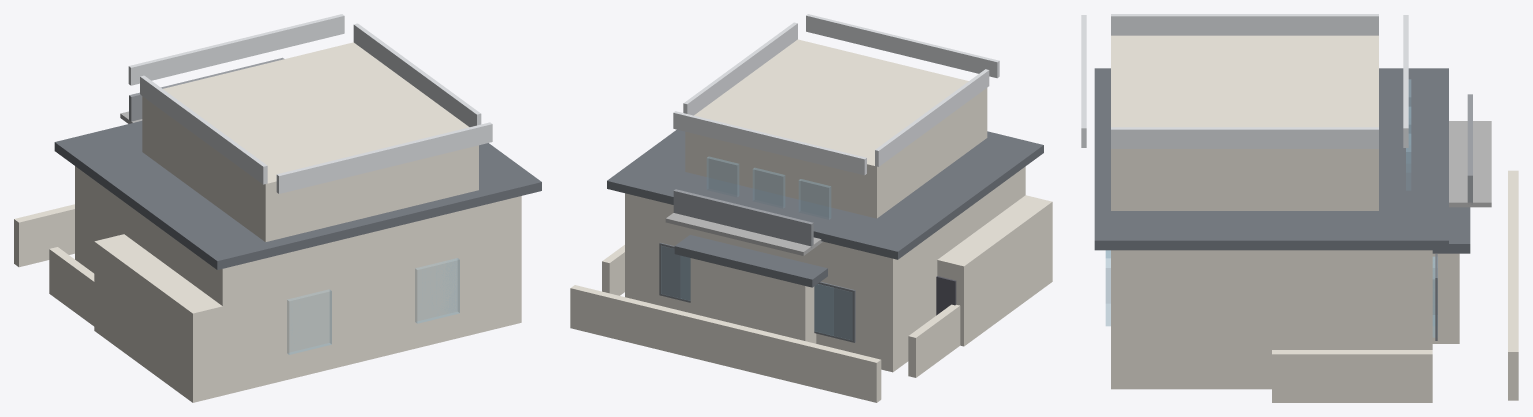
Rendered from residential_house.fbx.
3 renders of one model, left to right at view 1: azimuth 30°, elevation 25°; view 2: azimuth 150°, elevation 25°; view 3: azimuth 270°, elevation 25°, orthographic. The views are drawn at different scales.
Parts seen in each view (by area): view 1: MainBody, SecondFloor, Roof, Garage, RailingZ_-3, RailingZ_3, GardenWall_F, Railing_-2.5, Railing_2.5, Window_S_1.5_-3.05, Window_S_-1.5_-3.05, GardenWall_L (+1 smaller); view 2: SecondFloor, MainBody, Roof, GardenWall_F, Garage, Porch, RailingZ_3, RailingZ_-3, BalconyRail, PorchRoof, GardenWall_L, Railing_-2.5 (+12 smaller); view 3: SecondFloor, MainBody, Roof, GardenWall_R, Railing_-2.5, Railing_2.5, Balcony, GardenWall_F, Porch, PorchRoof, RailingZ_-3, RailingZ_3 (+2 smaller).
Part boxes in pixels (left/top/right/bottom): MainBody: left=75, top=166, right=521, bottom=395; SecondFloor: left=142, top=42, right=478, bottom=272; Roof: left=54, top=121, right=541, bottom=269; Garage: left=94, top=234, right=295, bottom=402; RailingZ_-3: left=276, top=122, right=492, bottom=193; RailingZ_3: left=128, top=14, right=344, bottom=85; GardenWall_F: left=14, top=204, right=74, bottom=267; Railing_-2.5: left=140, top=75, right=267, bottom=184; Railing_2.5: left=353, top=23, right=481, bottom=126; Window_S_1.5_-3.05: left=415, top=258, right=459, bottom=323; Window_S_-1.5_-3.05: left=287, top=289, right=331, bottom=354; GardenWall_L: left=49, top=247, right=94, bottom=326; SecondFloor: left=685, top=39, right=987, bottom=218; MainBody: left=625, top=166, right=1025, bottom=372; Roof: left=607, top=129, right=1043, bottom=259; GardenWall_F: left=570, top=285, right=881, bottom=402; Garage: left=937, top=195, right=1052, bottom=346; Porch: left=690, top=258, right=816, bottom=343; RailingZ_3: left=673, top=111, right=866, bottom=175; RailingZ_-3: left=806, top=14, right=999, bottom=78; BalconyRail: left=673, top=189, right=813, bottom=247; PorchRoof: left=674, top=235, right=827, bottom=287; GardenWall_L: left=908, top=304, right=960, bottom=377; Railing_-2.5: left=875, top=69, right=989, bottom=166; SecondFloor: left=1111, top=35, right=1378, bottom=210; MainBody: left=1111, top=250, right=1432, bottom=389; Roof: left=1094, top=68, right=1448, bottom=250; GardenWall_R: left=1272, top=350, right=1432, bottom=402; Railing_-2.5: left=1111, top=14, right=1378, bottom=35; Railing_2.5: left=1111, top=127, right=1378, bottom=148; Balcony: left=1449, top=121, right=1491, bottom=207; GardenWall_F: left=1508, top=170, right=1518, bottom=400; Porch: left=1432, top=253, right=1459, bottom=343; PorchRoof: left=1432, top=207, right=1470, bottom=253; RailingZ_-3: left=1081, top=15, right=1086, bottom=147; RailingZ_3: left=1403, top=15, right=1408, bottom=147.
Bounding box in the file's own units: 8.3 × 4.9 × 8.15.
